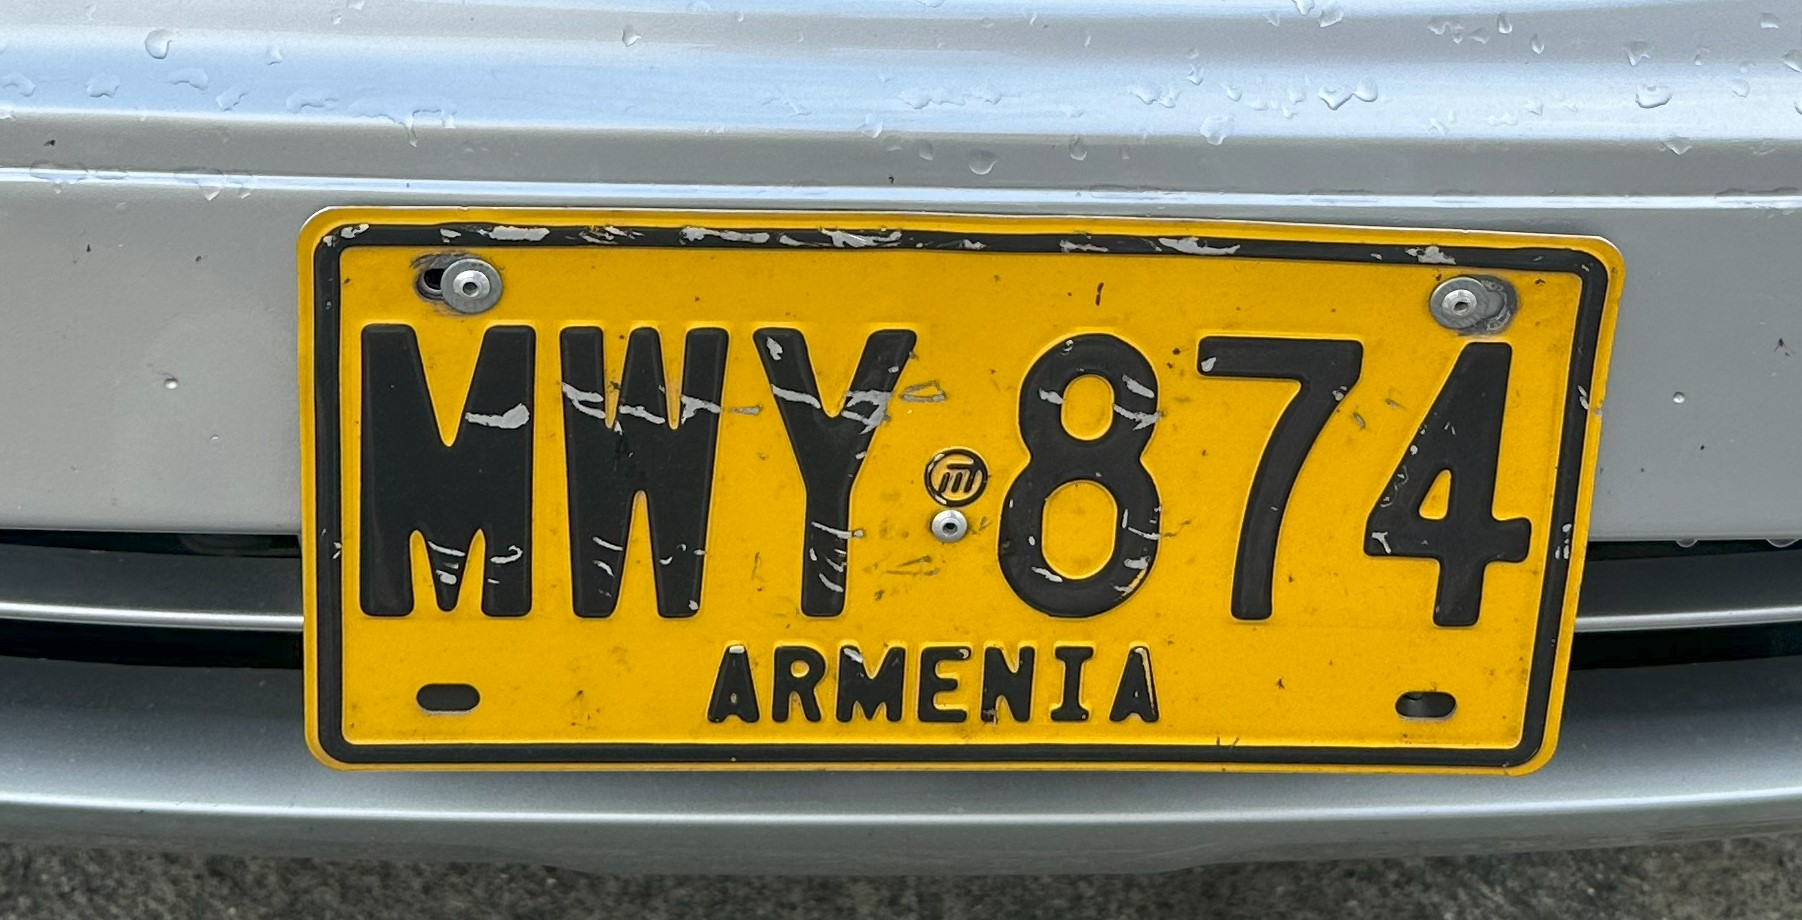number plate: (299, 210, 1621, 770)
